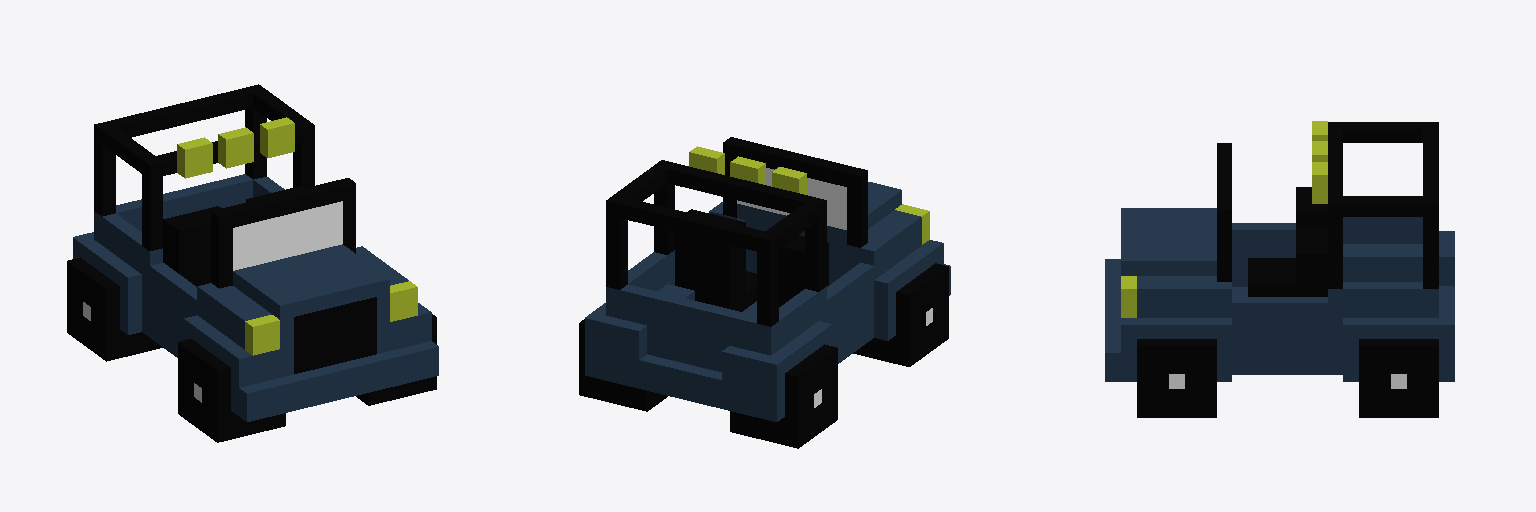
3 views of the same model, side by side, from view 1: azimuth 30°, elevation 25°; view 2: azimuth 150°, elevation 25°; view 3: azimuth 270°, elevation 25° (orthographic).
Parts seen in each view (by area): view 1: jeep_walk_0_42_unit; view 2: jeep_walk_0_42_unit; view 3: jeep_walk_0_42_unit.
Boxes of the visible parts, x1,y1,x2,y2 form: jeep_walk_0_42_unit: [67, 84, 438, 442]; jeep_walk_0_42_unit: [579, 137, 950, 448]; jeep_walk_0_42_unit: [1105, 121, 1454, 417].
Size of the model in its own units: 16 by 15 by 22.
1 materials, 1 textured.